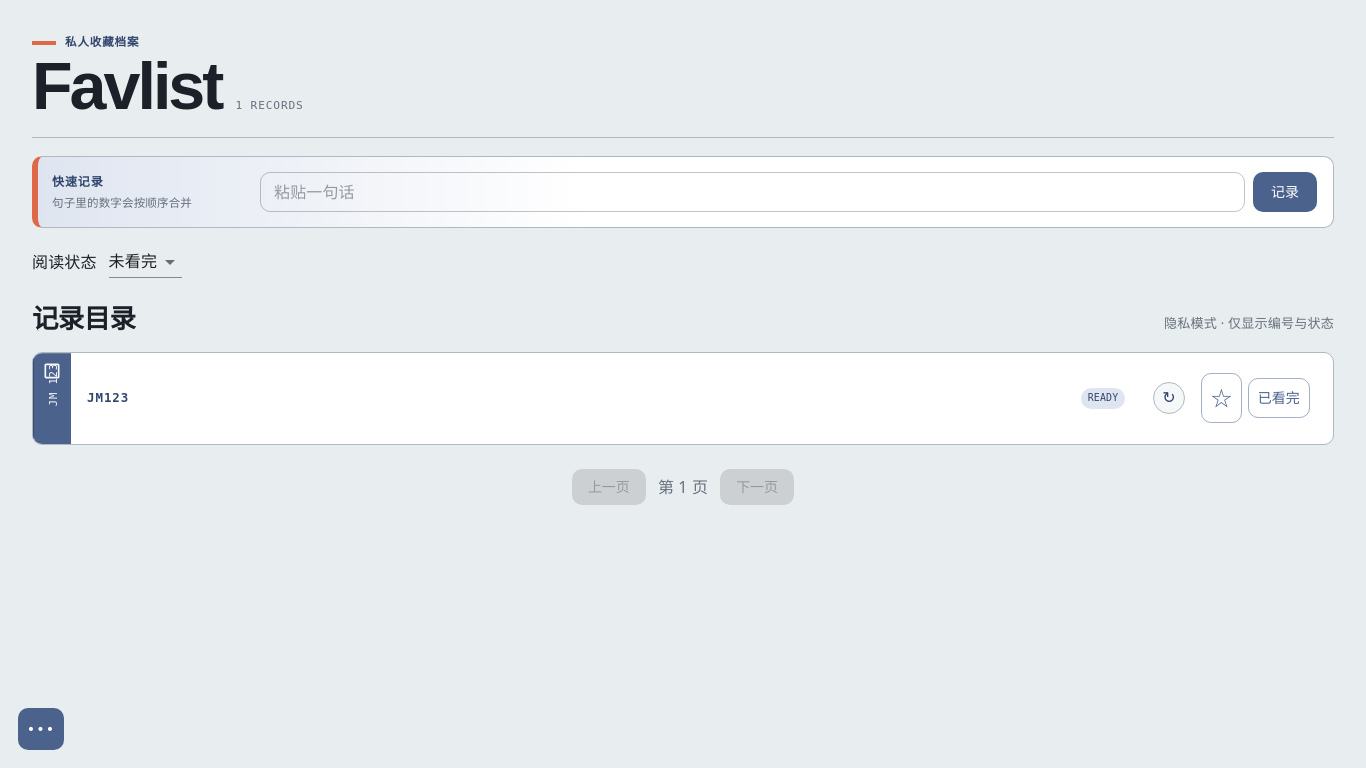
Test case: personal status and floating menu › defaults to unread, hides completed records, and supports undo and all
The image size is (1366, 768).
Expected: the dropdown labelled "阅读状态" shows "未看完", [109,246,182,278]
Click the button with aria-label "已看完 JM123" at (1279, 398), box [1248,378,1310,418]
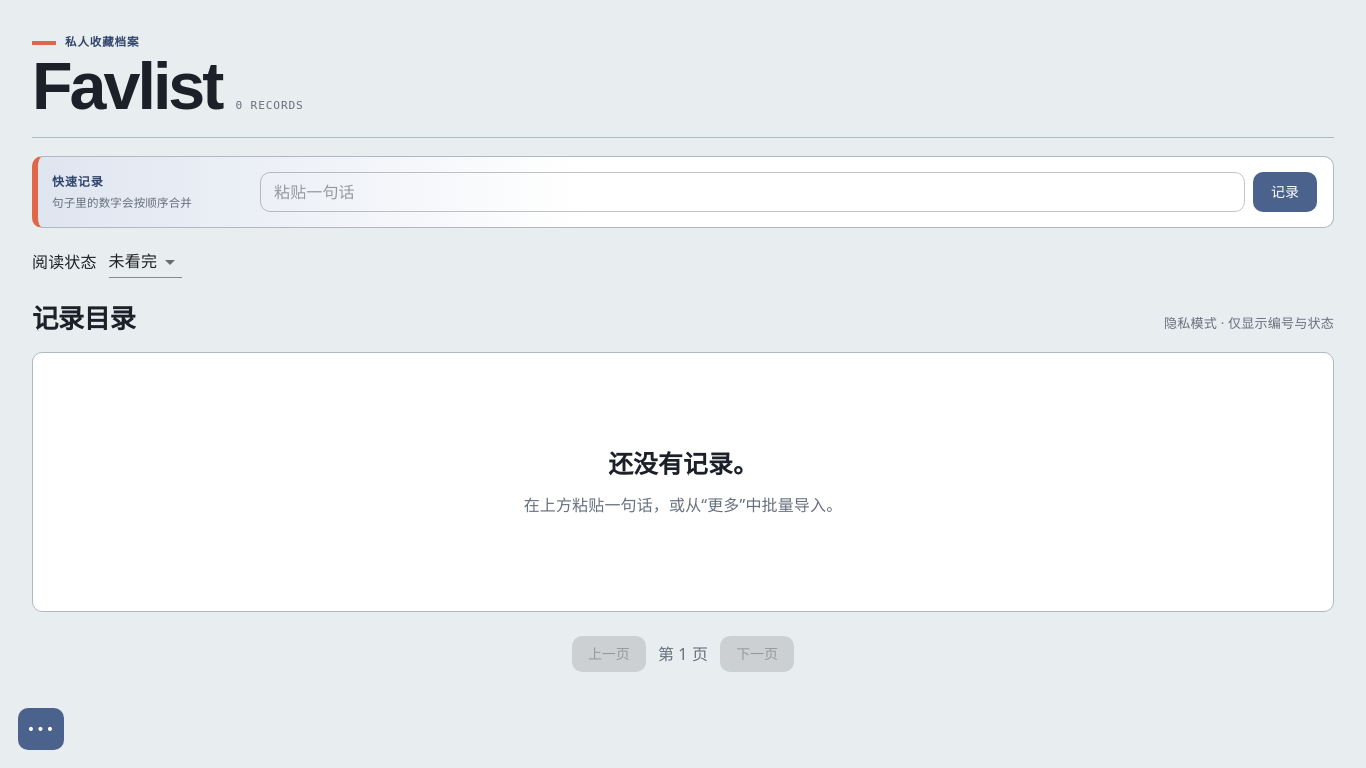
Expected: the text "JM123" is gone
Select "已看完" in the dropdown labelled "阅读状态" at (145, 262), box [109,246,182,278]
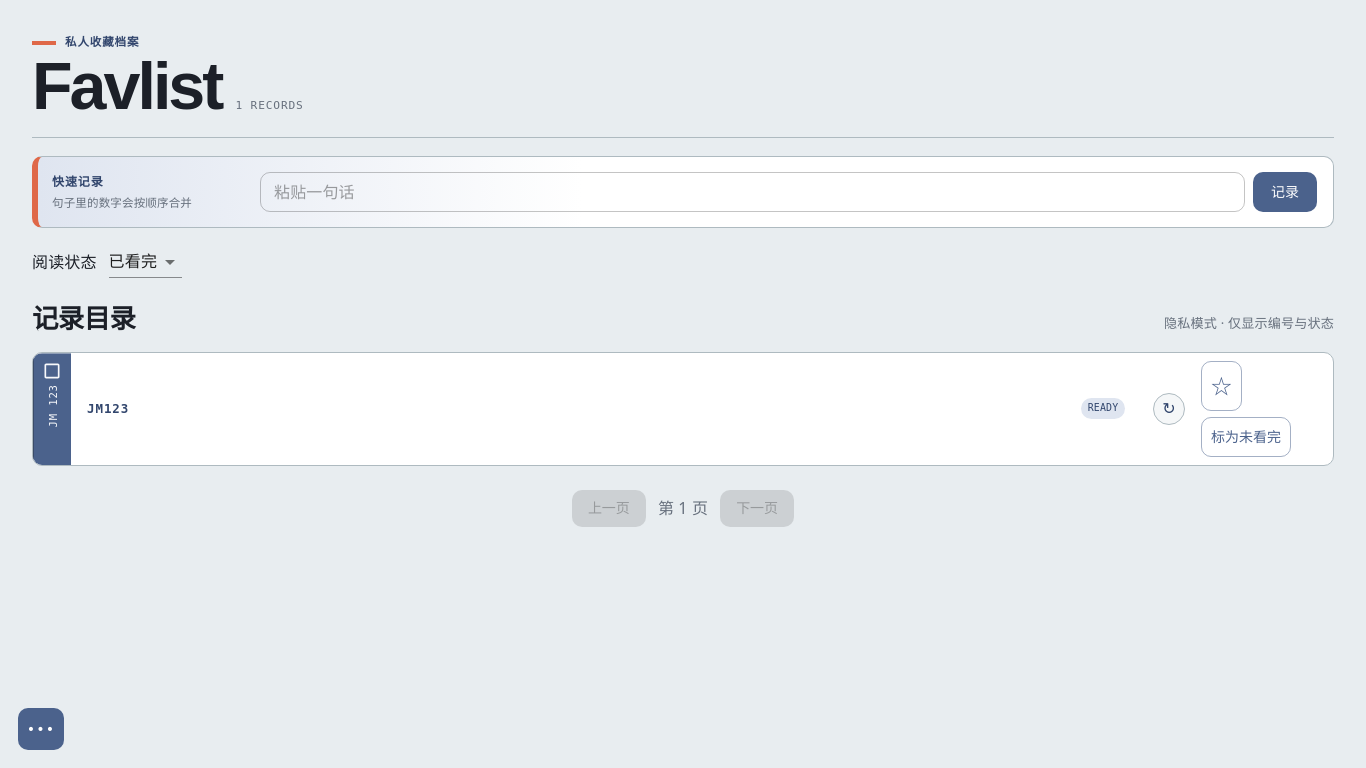
Click the button with aria-label "标为未看完 JM123" at (1246, 437), box [1201,417,1291,457]
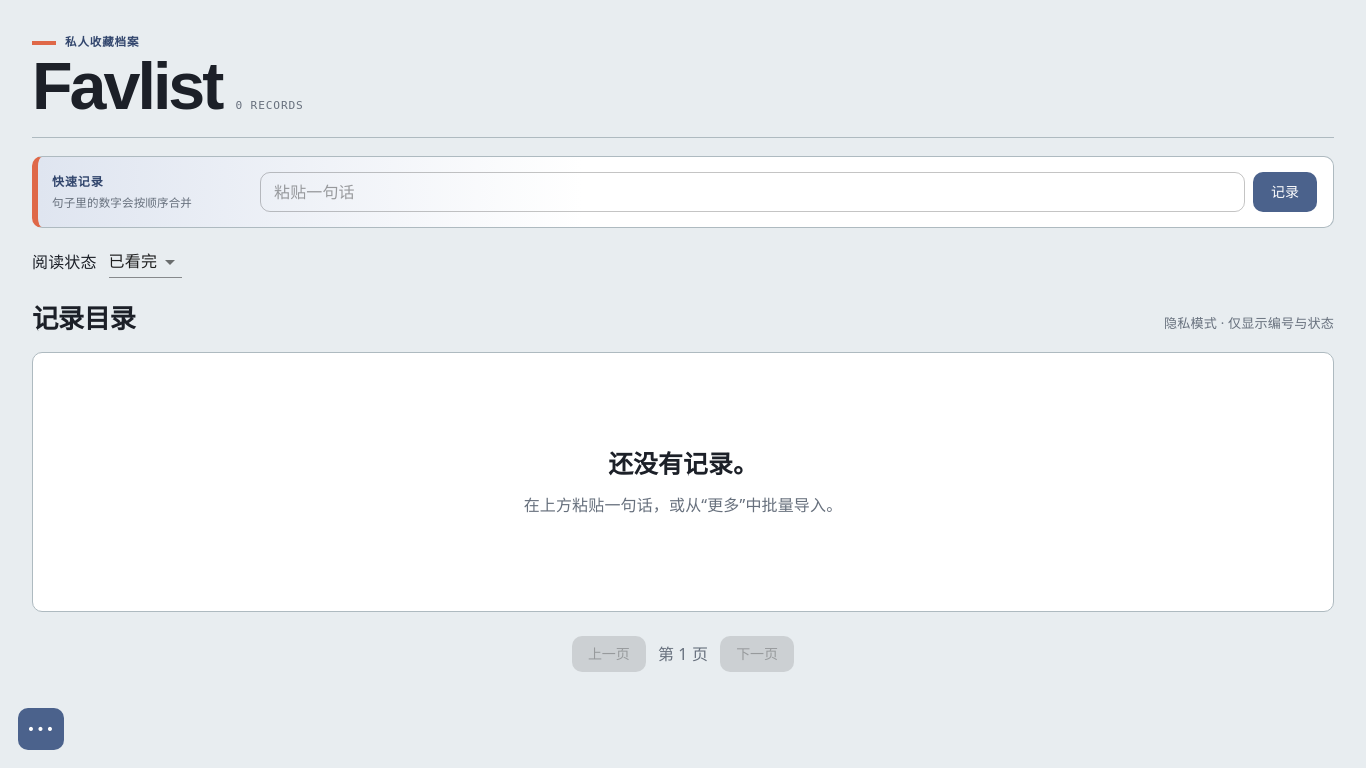
Expected: the text "JM123" is gone
Select "全部" in the dropdown labelled "阅读状态" at (145, 262), box [109,246,182,278]
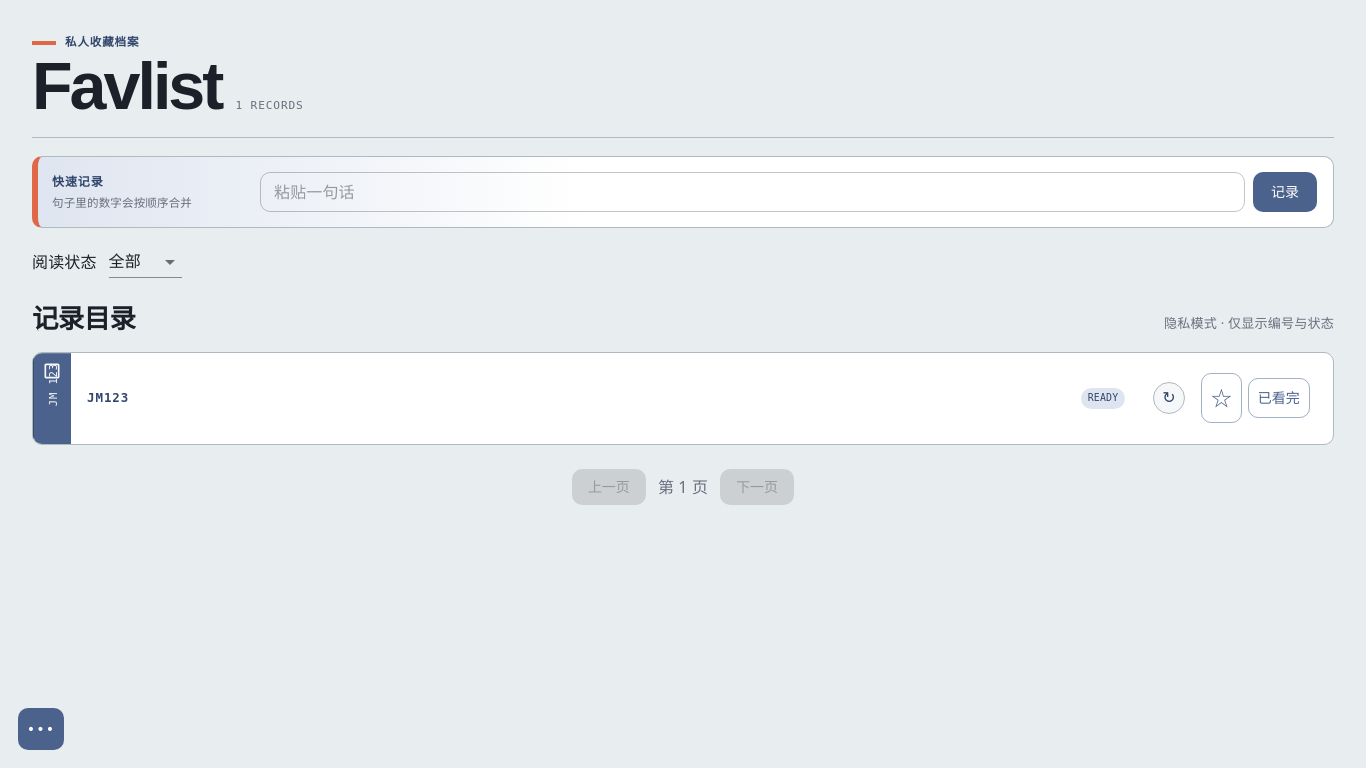
Expected: the text "JM123" is shown, [87,390,129,405]
